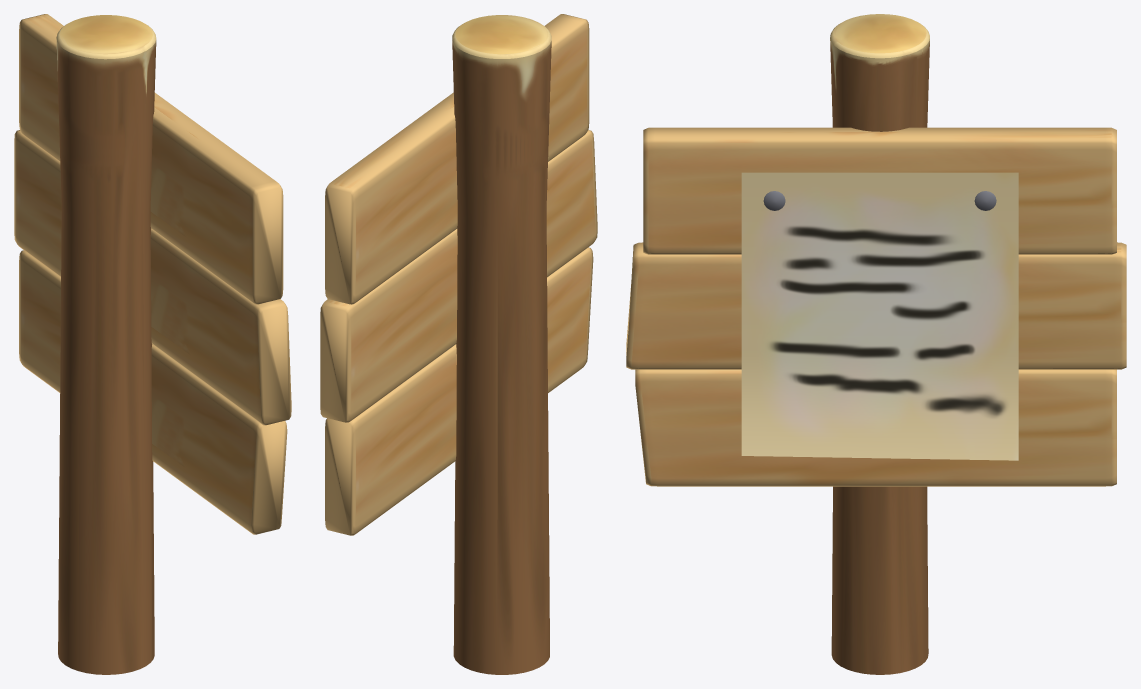
File: Sign2.fbx
3 views of the same model, side by side, from view 1: azimuth 30°, elevation 25°; view 2: azimuth 150°, elevation 25°; view 3: azimuth 270°, elevation 25° (orthographic).
Visible parts, largest first — view 1: Sign2; view 2: Sign2; view 3: Sign2.
Boxes of the visible parts, x1,y1,x2,y2 form: Sign2: (14, 14, 291, 674); Sign2: (320, 14, 597, 674); Sign2: (626, 14, 1126, 674).
Size of the model in its own units: 204 by 952 by 695.
4 materials, 3 textured.
